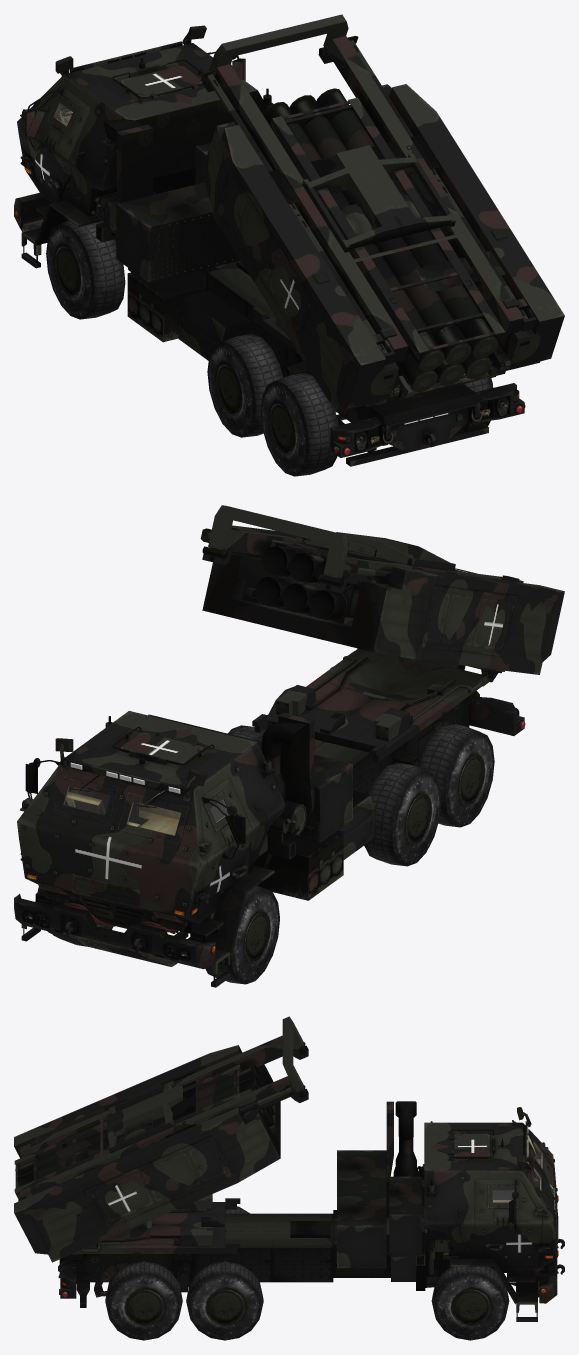
Rendered from Himars.glb.
The picture shows the model from 3 angles, top to bottom: view 1: azimuth 30°, elevation 25°; view 2: azimuth 150°, elevation 25°; view 3: azimuth 270°, elevation 25°; orthographic projection. The views are drawn at different scales.
Parts seen in each view (by area): view 1: misc_a, chassis, wheels_2, wheels_1, wheels_3, door_lf_dam, bonnet_dam; view 2: chassis, misc_a, wheels_3, wheels_2, door_lf_dam, wheels_1, glass, bonnet_dam; view 3: chassis, misc_a, wheels_3, wheels_2, wheels_1, door_rf_dam, door_rf_ok, bonnet_dam.
Part boxes in pixels (x1,y1,x2,y2): misc_a: (200, 14, 564, 412); chassis: (14, 25, 525, 466); wheels_2: (260, 372, 493, 476); wheels_1: (46, 220, 125, 319); wheels_3: (207, 333, 283, 437); door_lf_dam: (22, 87, 90, 202); bonnet_dam: (120, 66, 202, 99); chassis: (14, 648, 525, 987); misc_a: (200, 505, 564, 682); wheels_3: (228, 725, 441, 866); wheels_2: (265, 686, 494, 827); door_lf_dam: (197, 778, 251, 918); wheels_1: (53, 885, 279, 984); glass: (63, 785, 180, 835); bonnet_dam: (120, 732, 203, 764); chassis: (58, 1101, 564, 1321); misc_a: (14, 1016, 308, 1262); wheels_3: (186, 1206, 263, 1340); wheels_2: (105, 1261, 182, 1340); wheels_1: (431, 1266, 509, 1340); door_rf_dam: (475, 1179, 545, 1266); door_rf_ok: (474, 1182, 542, 1252); bonnet_dam: (449, 1133, 489, 1158).
Bounding box in the file's own units: 0.00297 × 0.00456 × 0.00847.
21 materials, 18 textured.
